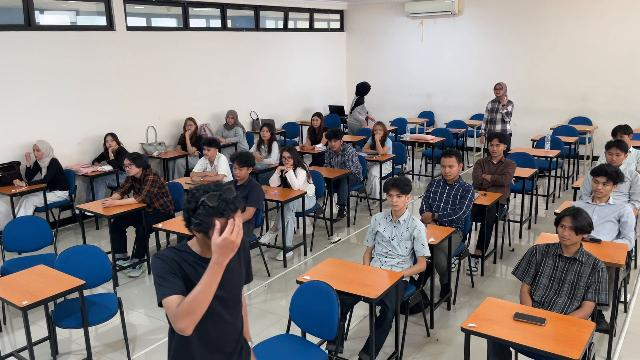fokus: (27, 137, 54, 171), (557, 220, 582, 245), (592, 174, 612, 197), (440, 157, 457, 179), (387, 191, 405, 210), (606, 147, 623, 166), (232, 163, 246, 179), (124, 159, 138, 174), (613, 131, 628, 145), (281, 151, 294, 167), (489, 141, 503, 155), (106, 136, 117, 149), (203, 146, 214, 158), (186, 121, 196, 134), (374, 126, 384, 138), (261, 127, 270, 140), (328, 140, 339, 150), (227, 113, 234, 125), (312, 117, 320, 127)
